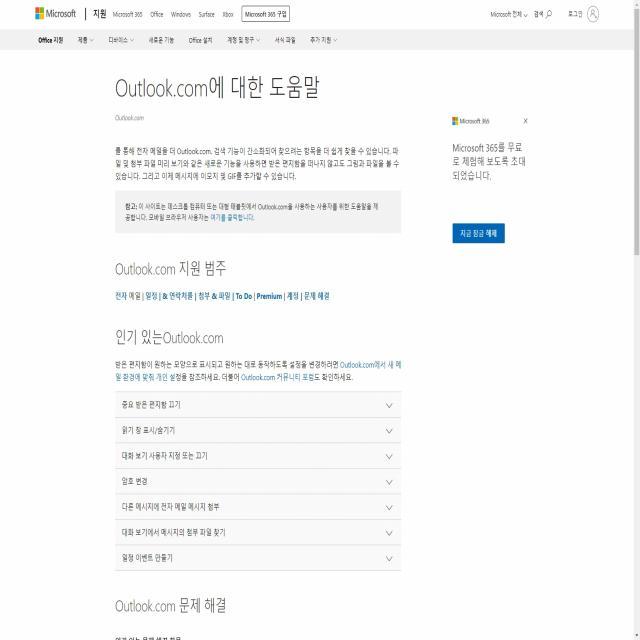menu-bar: (109, 4, 291, 24), (487, 2, 600, 26)
menu-panel: (74, 28, 342, 50)
